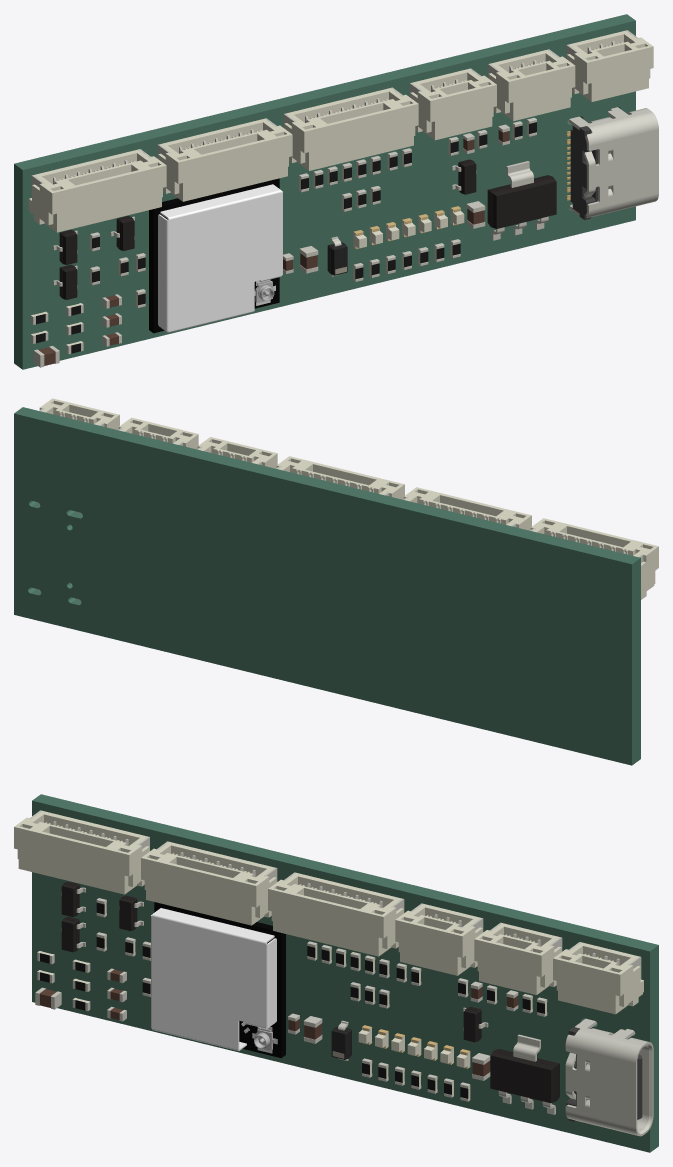
File: board.glb
3 views of the same model, one above another, from view 1: azimuth 30°, elevation 25°; view 2: azimuth 150°, elevation 25°; view 3: azimuth 330°, elevation 25° (orthographic).
Visible parts, largest first — view 1: =>[0:1:1:24], =>[0:1:1:19]_827e91, =>[0:1:1:7]_6b12d7, =>[0:1:1:7]_2_02abef, =>[0:1:1:7]_1_fe47db, =>[0:1:1:23]_9fc28b, =>[0:1:1:15]_1_b8959b, =>[0:1:1:15]_ac21a9, =>[0:1:1:15]_2_420cad, =>[0:1:1:17]_3eec0e, =>[0:1:1:19]_0aae16, =>[0:1:1:23]_f3bca1 (+6 smaller); view 2: =>[0:1:1:24], =>[0:1:1:7]_6b12d7, =>[0:1:1:7]_2_02abef, =>[0:1:1:7]_1_fe47db, =>[0:1:1:15]_1_b8959b, =>[0:1:1:15]_ac21a9, =>[0:1:1:15]_2_420cad; view 3: =>[0:1:1:24], =>[0:1:1:19]_827e91, =>[0:1:1:23]_9fc28b, =>[0:1:1:7]_2_02abef, =>[0:1:1:7]_6b12d7, =>[0:1:1:7]_1_fe47db, =>[0:1:1:15]_2_420cad, =>[0:1:1:15]_ac21a9, =>[0:1:1:15]_1_b8959b, =>[0:1:1:17]_3eec0e, =>[0:1:1:19]_0aae16, =>[0:1:1:17]_4072ec (+6 smaller).
Part boxes in pixels (box(x1,y1,x2,y2)): =>[0:1:1:24]: box(14, 14, 635, 369); =>[0:1:1:19]_827e91: box(158, 184, 282, 332); =>[0:1:1:7]_6b12d7: box(28, 149, 166, 232); =>[0:1:1:7]_2_02abef: box(284, 88, 418, 170); =>[0:1:1:7]_1_fe47db: box(158, 118, 292, 201); =>[0:1:1:23]_9fc28b: box(568, 107, 658, 217); =>[0:1:1:15]_1_b8959b: box(488, 50, 575, 121); =>[0:1:1:15]_ac21a9: box(410, 69, 496, 140); =>[0:1:1:15]_2_420cad: box(567, 30, 653, 101); =>[0:1:1:17]_3eec0e: box(487, 175, 556, 228); =>[0:1:1:19]_0aae16: box(149, 178, 279, 333); =>[0:1:1:23]_f3bca1: box(570, 122, 611, 220); =>[0:1:1:24]: box(14, 407, 640, 765); =>[0:1:1:7]_6b12d7: box(530, 518, 658, 599); =>[0:1:1:7]_2_02abef: box(276, 456, 404, 499); =>[0:1:1:7]_1_fe47db: box(403, 487, 531, 530); =>[0:1:1:15]_1_b8959b: box(118, 417, 198, 449); =>[0:1:1:15]_ac21a9: box(197, 437, 277, 468); =>[0:1:1:15]_2_420cad: box(39, 398, 119, 429); =>[0:1:1:24]: box(32, 794, 658, 1152); =>[0:1:1:19]_827e91: box(151, 908, 276, 1050); =>[0:1:1:23]_9fc28b: box(565, 1018, 653, 1136); =>[0:1:1:7]_2_02abef: box(268, 873, 403, 956); =>[0:1:1:7]_6b12d7: box(14, 811, 149, 894); =>[0:1:1:7]_1_fe47db: box(141, 842, 276, 925); =>[0:1:1:15]_2_420cad: box(553, 942, 643, 1014); =>[0:1:1:15]_ac21a9: box(395, 904, 482, 975); =>[0:1:1:15]_1_b8959b: box(474, 923, 561, 994); =>[0:1:1:17]_3eec0e: box(490, 1049, 559, 1103); =>[0:1:1:19]_0aae16: box(154, 902, 285, 1058); =>[0:1:1:17]_4072ec: box(498, 1034, 555, 1114).
Size of the model in its own units: 64.74 by 20 by 5.89.
